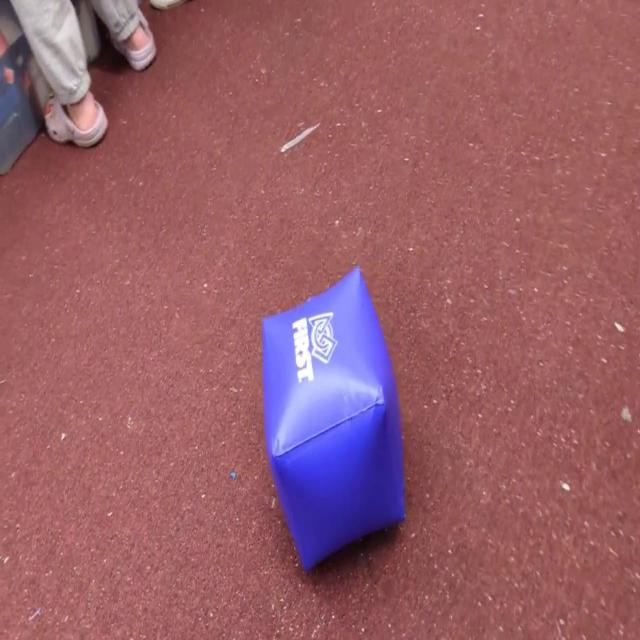frc_cube: (260, 260, 408, 580)
